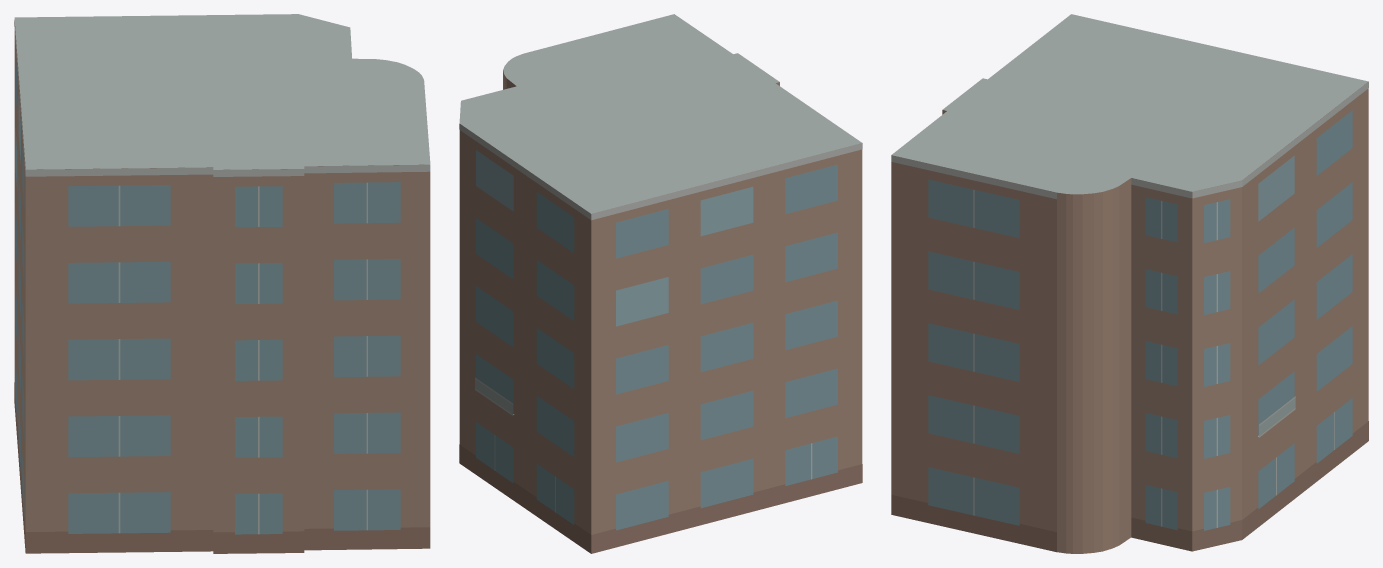
Rendered from survey-upis-32873654.glb.
3 views of the same model, side by side, from view 1: azimuth 30°, elevation 25°; view 2: azimuth 150°, elevation 25°; view 3: azimuth 270°, elevation 25° (orthographic). The views are drawn at different scales.
Parts seen in each view (by area): view 1: survey-upis-32873654.tmp; view 2: survey-upis-32873654.tmp; view 3: survey-upis-32873654.tmp.
Part boxes in pixels (x1,y1,x2,y2): survey-upis-32873654.tmp: (14,14,430,553); survey-upis-32873654.tmp: (459,14,862,553); survey-upis-32873654.tmp: (891,14,1368,553).
Size of the model in its own units: 14.09 by 13.1 by 15.77.
